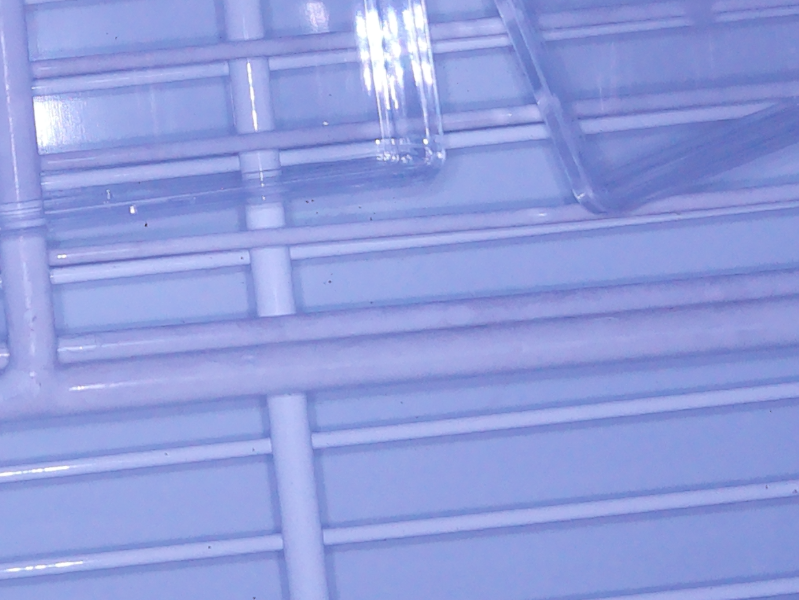plate: (1, 1, 449, 225), (493, 1, 799, 216)
